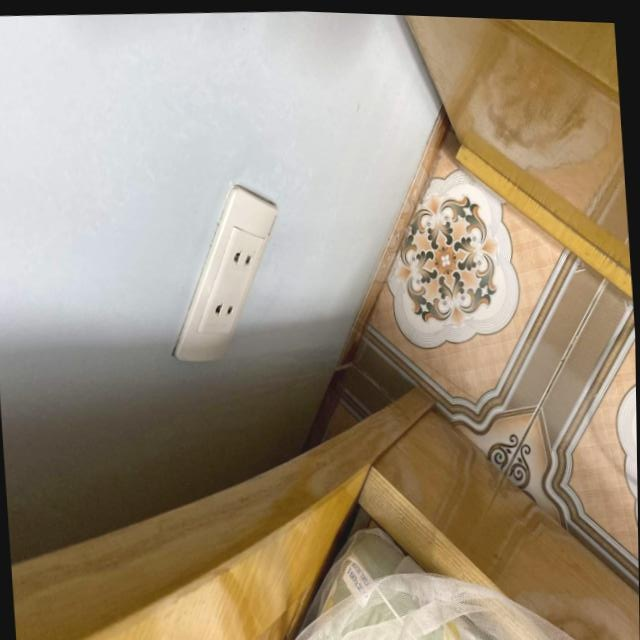outlet: (161, 180, 289, 368)
